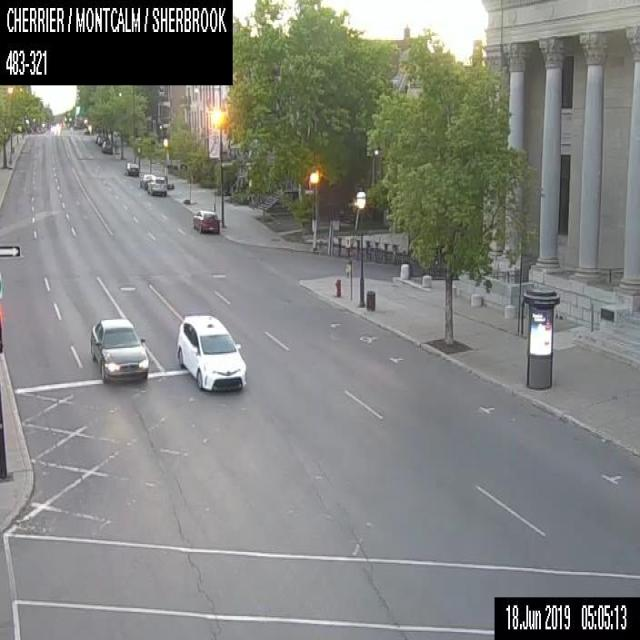vehicle: (174, 312, 247, 393), (88, 314, 149, 382), (191, 209, 219, 233), (147, 174, 167, 196), (139, 172, 153, 188), (123, 161, 138, 175), (101, 140, 112, 153), (97, 136, 105, 144)
